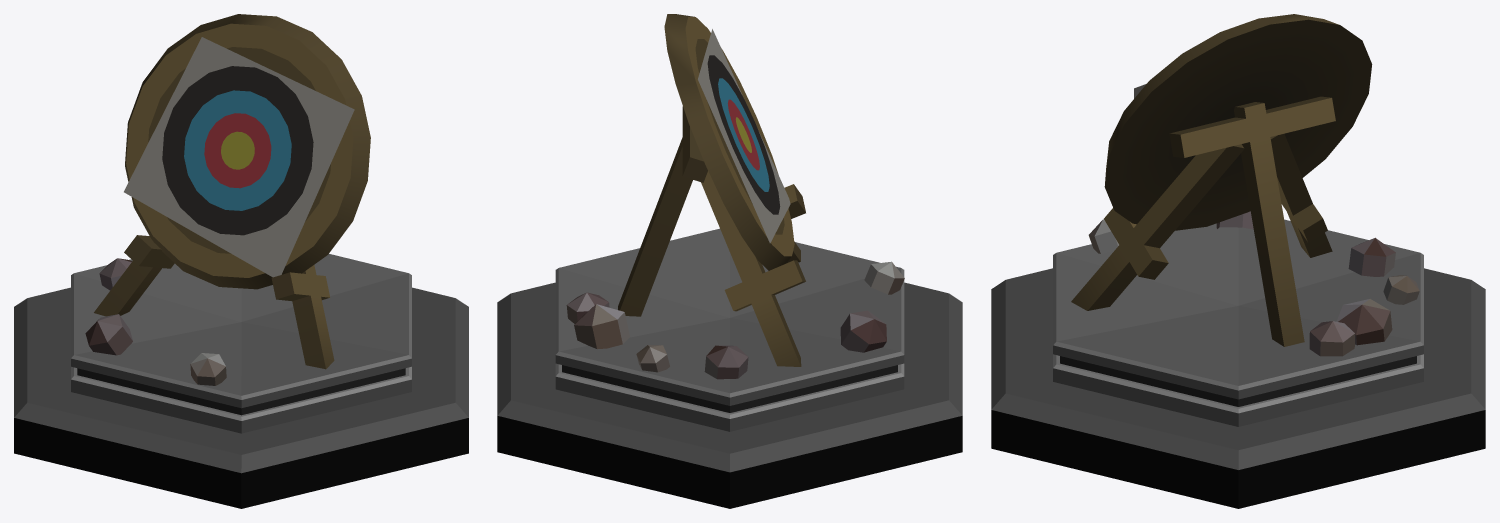
File: huntingLodge.fbx
The picture shows the model from 3 angles, left to right: view 1: azimuth 30°, elevation 25°; view 2: azimuth 150°, elevation 25°; view 3: azimuth 270°, elevation 25°; orthographic projection. The views are drawn at different scales.
Visible parts, largest first — view 1: huntingLodge; view 2: huntingLodge; view 3: huntingLodge.
Part boxes in pixels (box(x1,y1,x2,y2)): huntingLodge: box(14, 14, 468, 508); huntingLodge: box(497, 14, 962, 508); huntingLodge: box(991, 14, 1485, 508).
Bounding box in the file's own units: 2 × 1.51 × 1.73.
